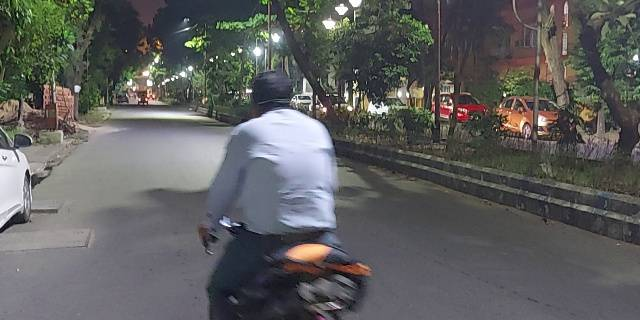Cycle: (198, 70, 349, 319)
